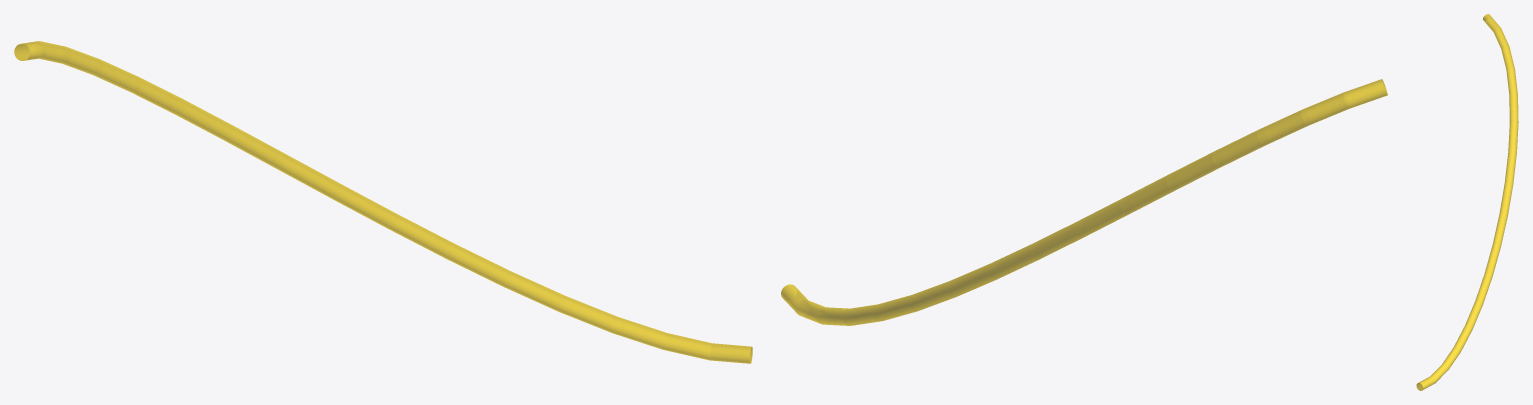
File: Event_100608114_track_93.fbx
The picture shows the model from 3 angles, left to right: view 1: azimuth 30°, elevation 25°; view 2: azimuth 150°, elevation 25°; view 3: azimuth 270°, elevation 25°; orthographic projection. The views are drawn at different scales.
Parts seen in each view (by area): view 1: Model; view 2: Model; view 3: Model.
Part boxes in pixels (<box>): Model: <box>14,41,752,363</box>; Model: <box>781,79,1387,325</box>; Model: <box>1416,14,1518,390</box>.
Bounding box in the file's own units: 1.78 × 1.09 × 0.4684.
